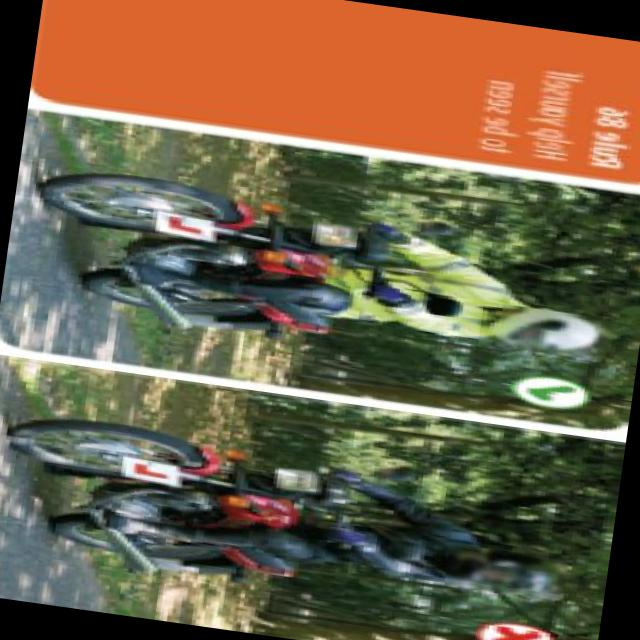With Helmet: (444, 542, 568, 601), (494, 302, 610, 361)
